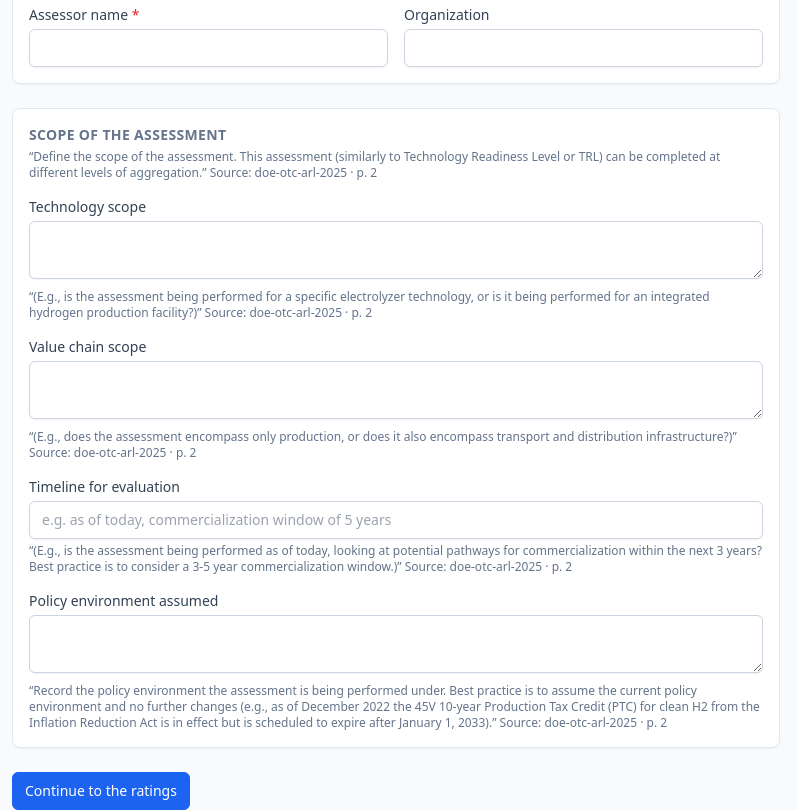
Scenario: ARL flow › requires the project, technology and assessor before rating
(page scrolled)
Click the button "Continue to the ratings" at point(101, 791), box [12,772,190,809]
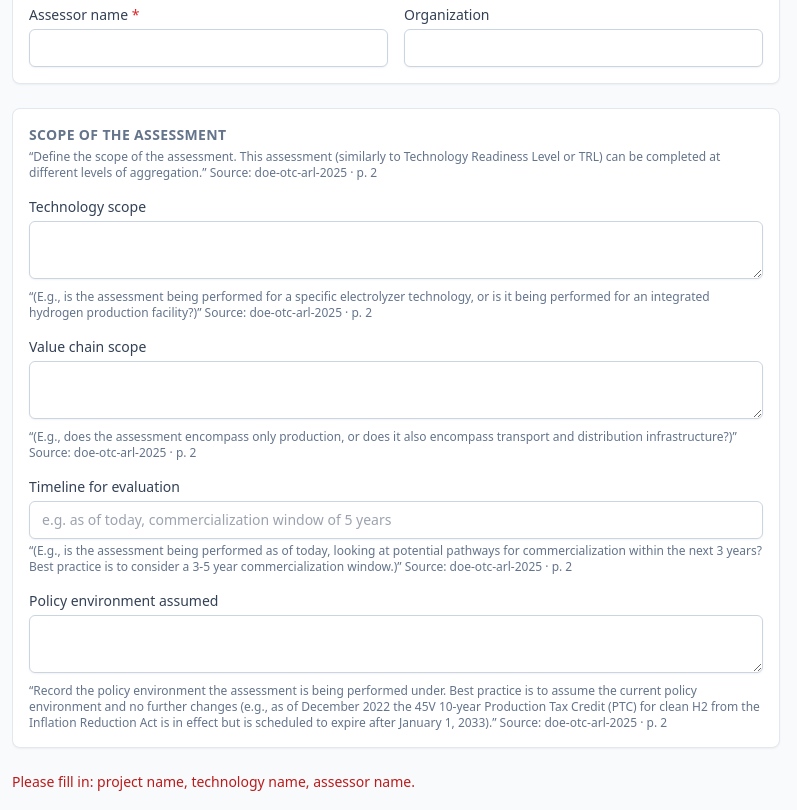
Now the message shows "project name", box [12,772,415,791]
